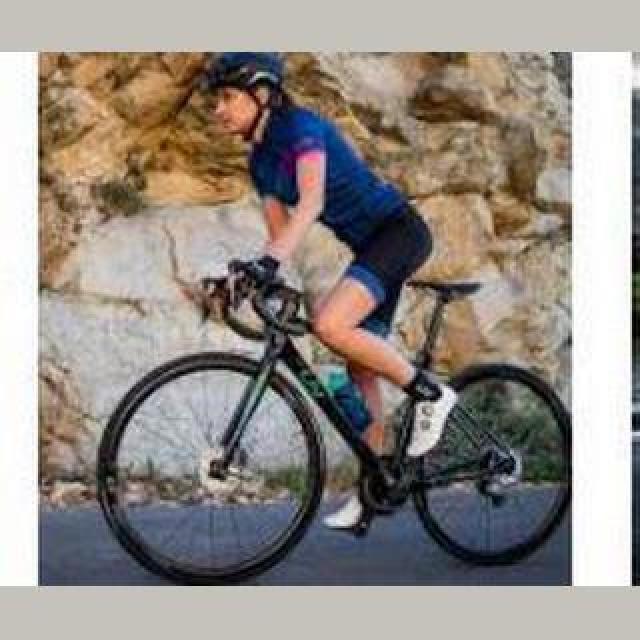MC-Bike: (204, 56, 460, 522)
Person: (92, 254, 574, 586)
